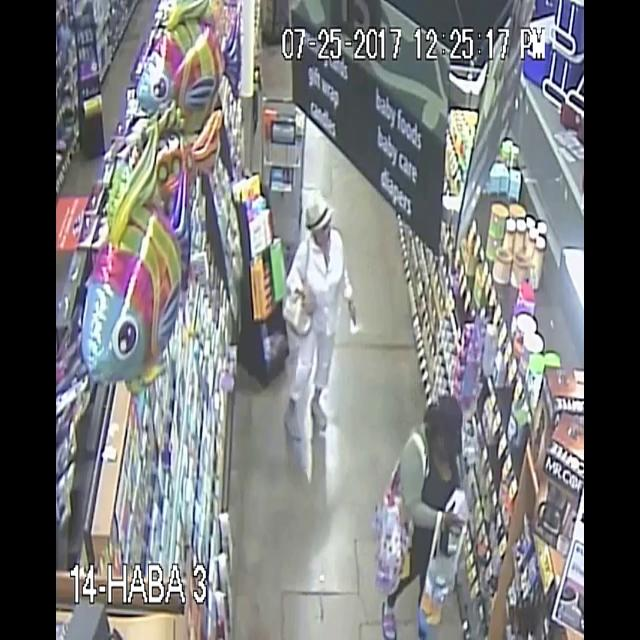Product: (438, 478, 476, 528)
normal: (272, 163, 372, 452)
shoplifting: (374, 378, 502, 640)
